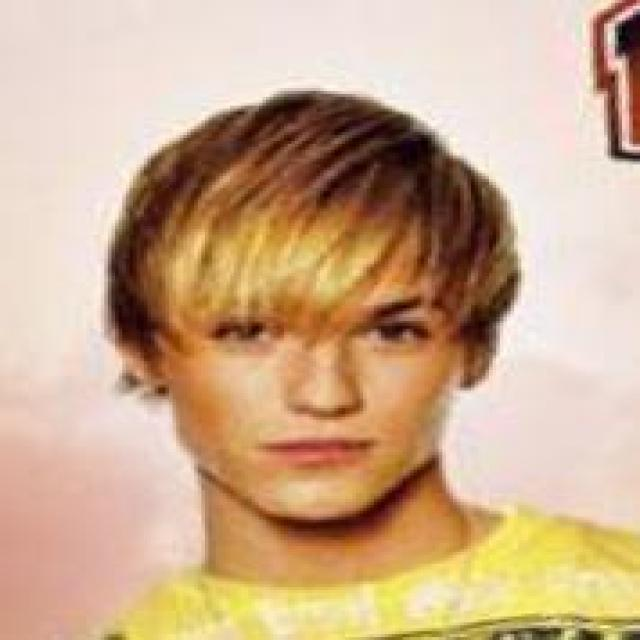bareface: (90, 164, 580, 539)
